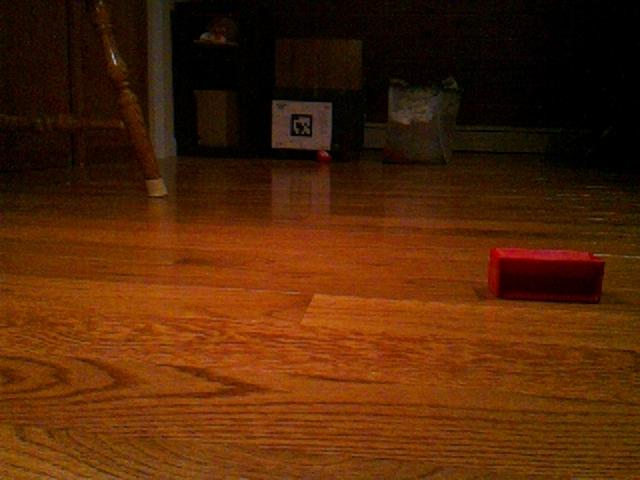red: (487, 245, 606, 305)
